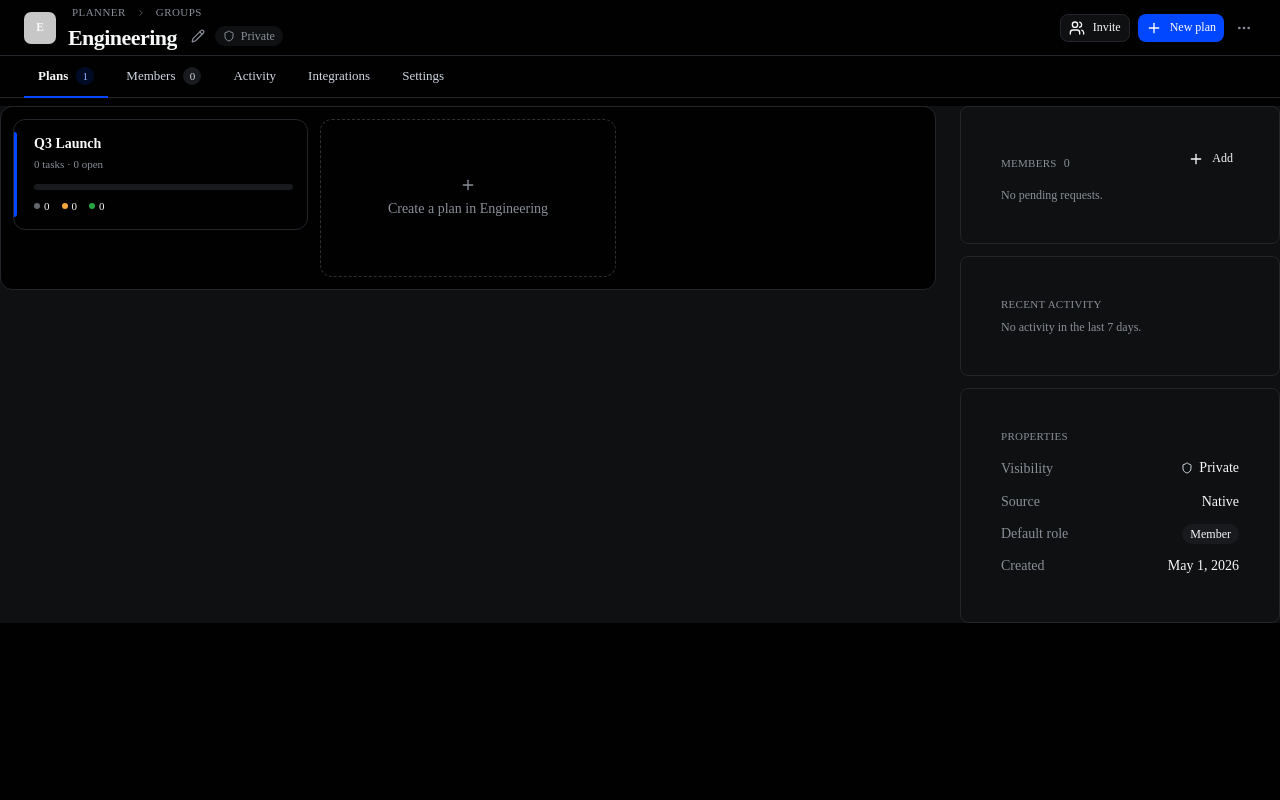
Test: GroupDetailPage › opens AddGroupMembersDialog when invite button is clicked
Expected: the heading "Engineering" is shown, top-left (68, 24), bottom-right (177, 52)
Step 1. Click the button "Invite" → [1095, 28], box top-left (1060, 14), bottom-right (1130, 42)
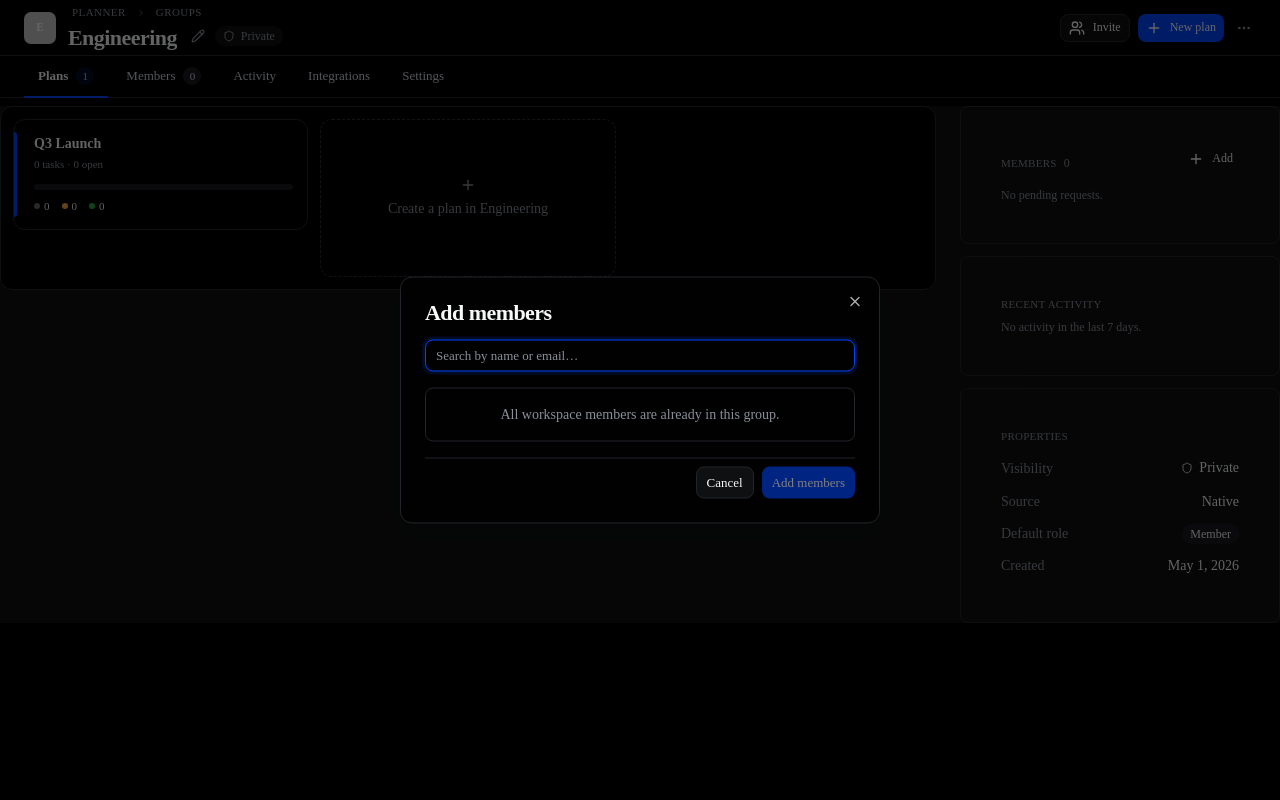
Result: the dialog "Add members" is shown at top-left (400, 276), bottom-right (880, 524)
